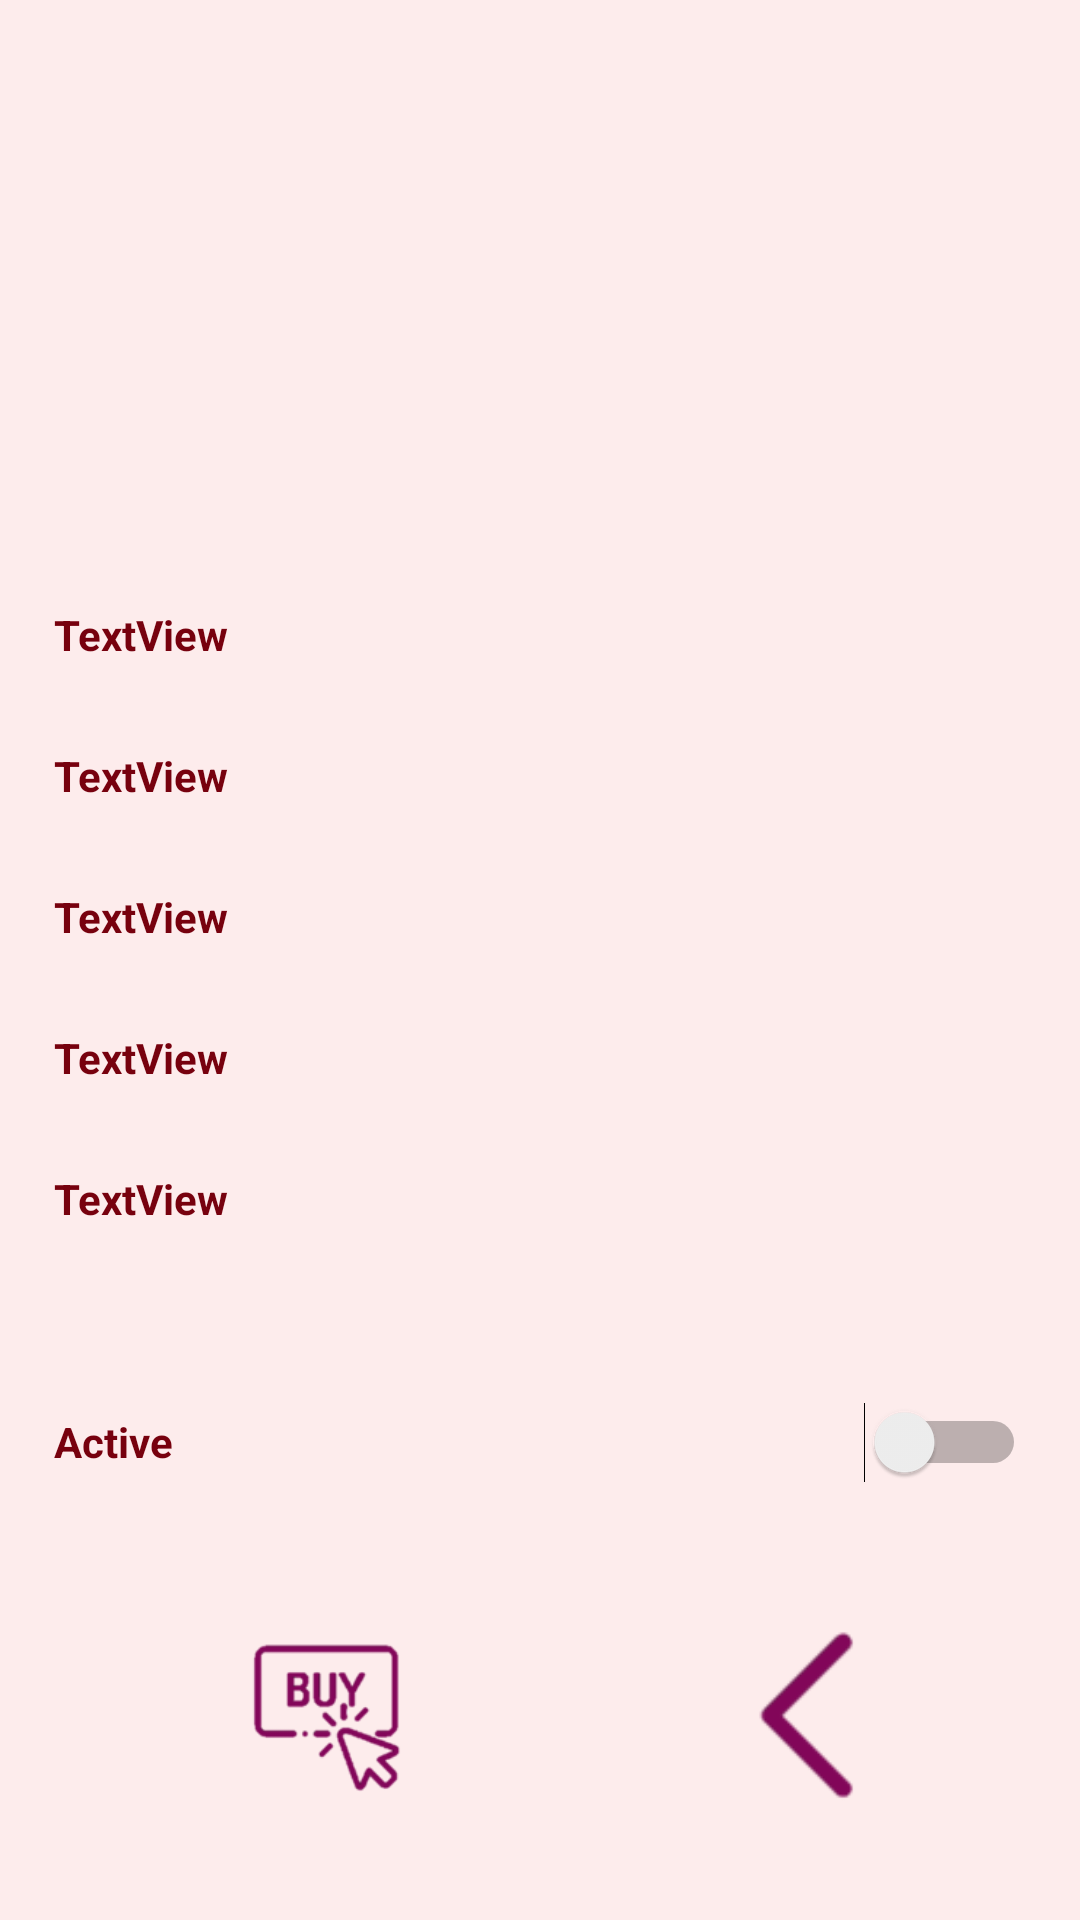

Icon click points for this 1080*1920 phone screenshot, format (x=x, y=y):
back: (x=806, y=1715)
